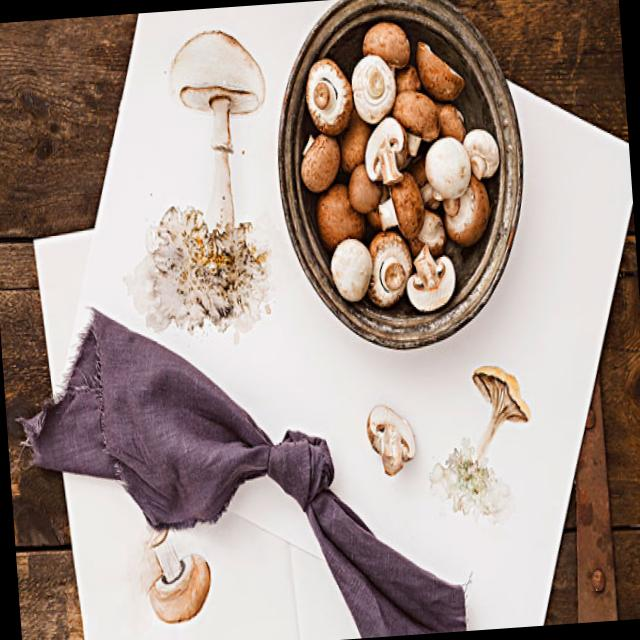Agaricus bisporus: (138, 520, 212, 620), (416, 124, 477, 206), (342, 49, 398, 136), (328, 232, 370, 308), (300, 122, 340, 194)
